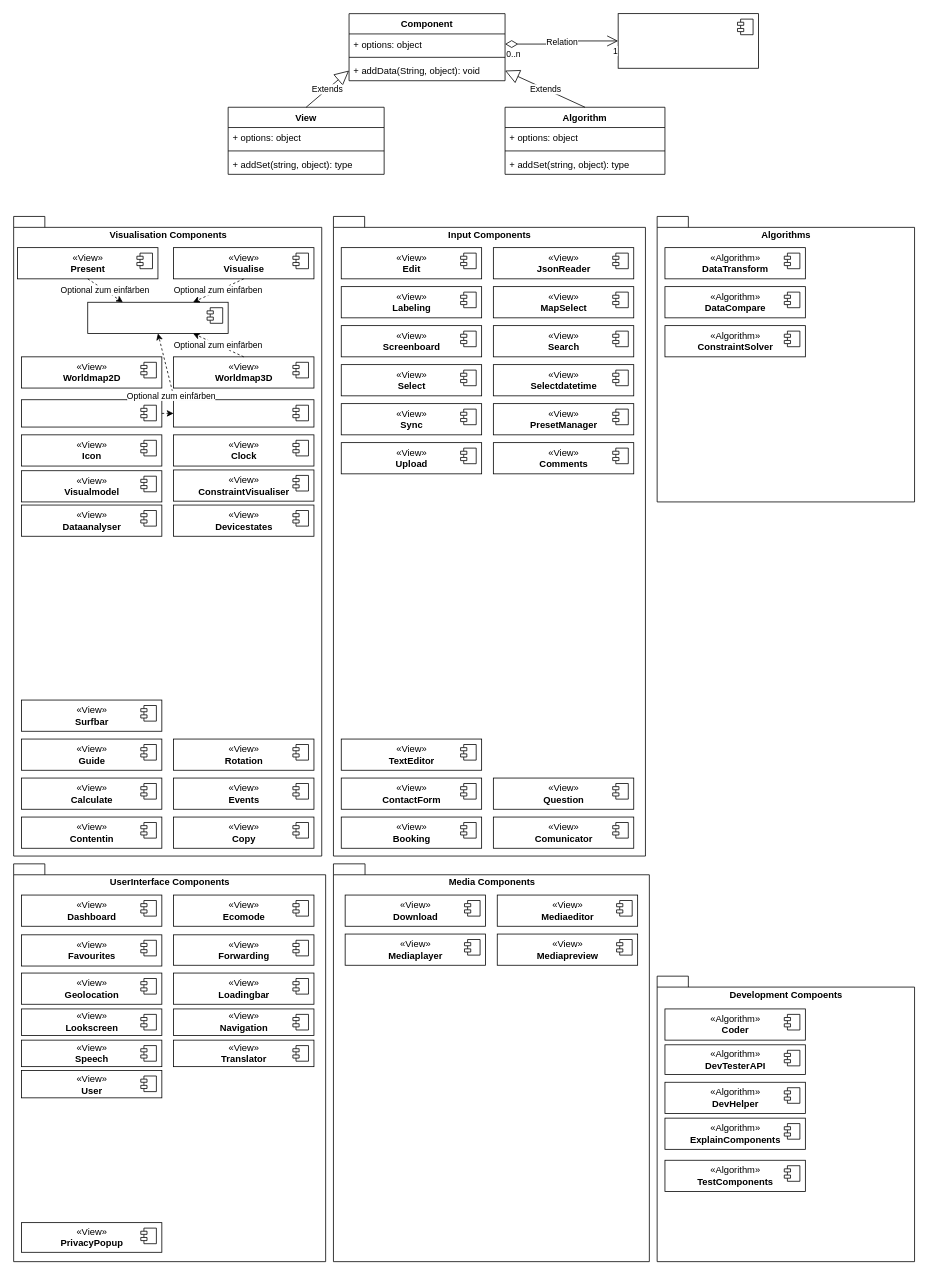
The diagram is 928 pixels wide and 1275 high, and some of its shapes have lost their labels. Each missing label, with the centre of its shape:
"«Nodel» Model" goes at point (688, 40).
"«View» Charts" goes at point (91, 413).
"«View» Datadescription" goes at point (157, 317).
"«View» Datafilter" goes at point (243, 413).
